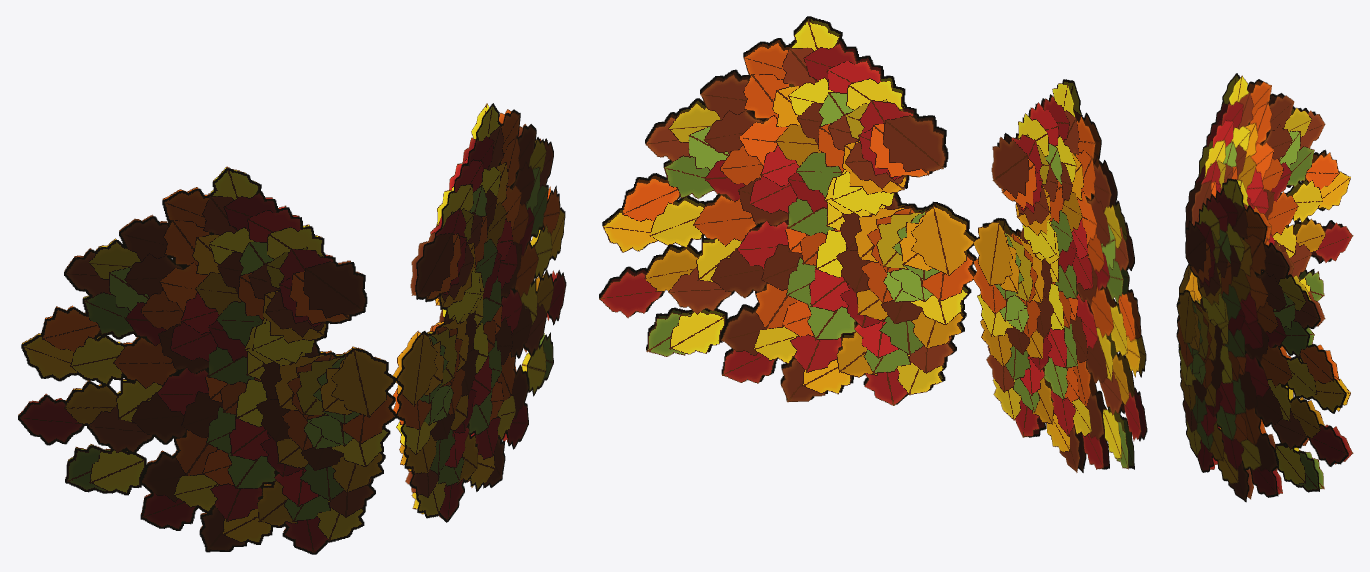
Rendered from autumn_leaf_wings.glb.
The picture shows the model from 3 angles, left to right: view 1: azimuth 30°, elevation 25°; view 2: azimuth 150°, elevation 25°; view 3: azimuth 270°, elevation 25°; orthographic projection. The views are drawn at different scales.
Visible parts, largest first — view 1: Autumn Leaf Wings Wing Right, Autumn Leaf Wings Wing Left; view 2: Autumn Leaf Wings Wing Left, Autumn Leaf Wings Wing Right; view 3: Autumn Leaf Wings Wing Left, Autumn Leaf Wings Wing Right.
Boxes of the visible parts, x1=… form: Autumn Leaf Wings Wing Right: x1=18, y1=166, x2=397, y2=554; Autumn Leaf Wings Wing Left: x1=393, y1=103, x2=566, y2=522; Autumn Leaf Wings Wing Left: x1=599, y1=16, x2=977, y2=405; Autumn Leaf Wings Wing Right: x1=973, y1=79, x2=1147, y2=472; Autumn Leaf Wings Wing Left: x1=1176, y1=178, x2=1353, y2=502; Autumn Leaf Wings Wing Right: x1=1177, y1=73, x2=1353, y2=377.
Bounding box in the file's own units: 2.1 × 1.42 × 0.7194.
Materials: 2 (2 with a texture image).
